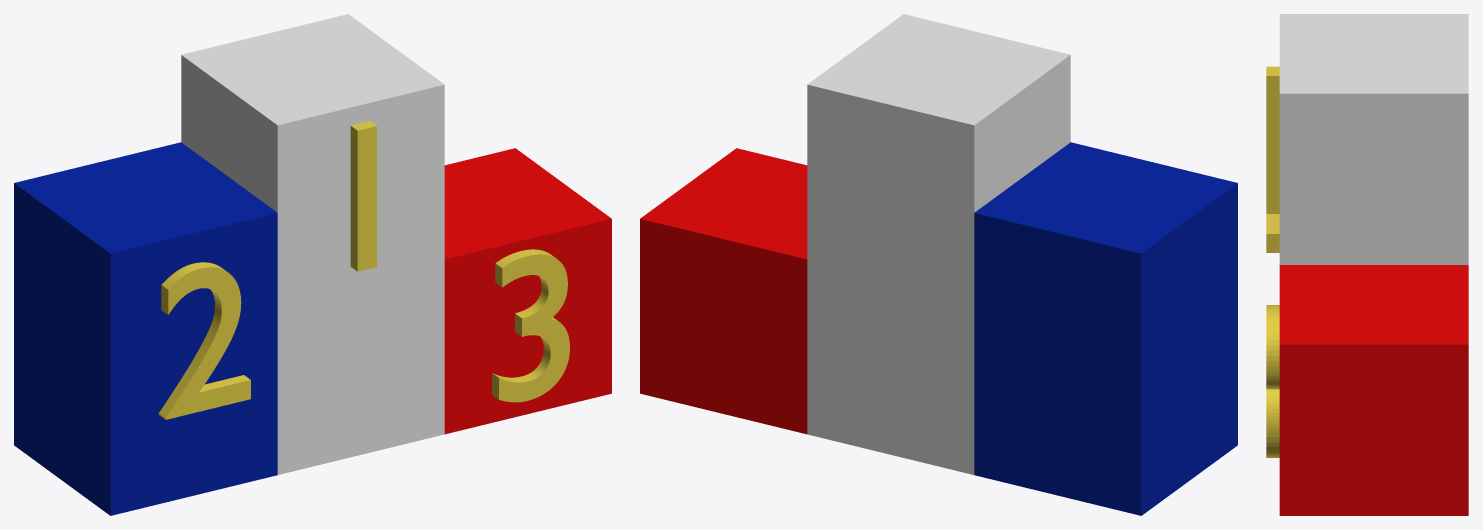
Rendered from Podium.dae.
3 renders of one model, left to right at view 1: azimuth 30°, elevation 25°; view 2: azimuth 150°, elevation 25°; view 3: azimuth 270°, elevation 25°, orthographic. The views are drawn at different scales.
Visible parts, largest first — view 1: Cube; view 2: Cube; view 3: Cube.
Boxes of the visible parts, x1,y1,x2,y2 form: Cube: (14,14,611,515); Cube: (640,14,1237,515); Cube: (1266,14,1468,515).
Bounding box in the file's own units: 6 × 2.14 × 4.
